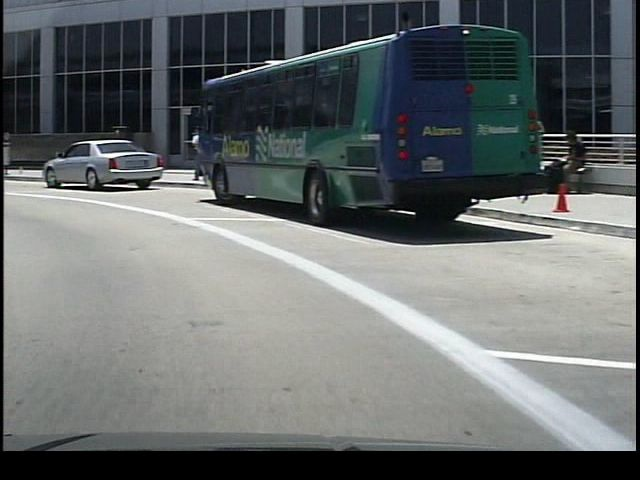person: (541, 126, 584, 195)
